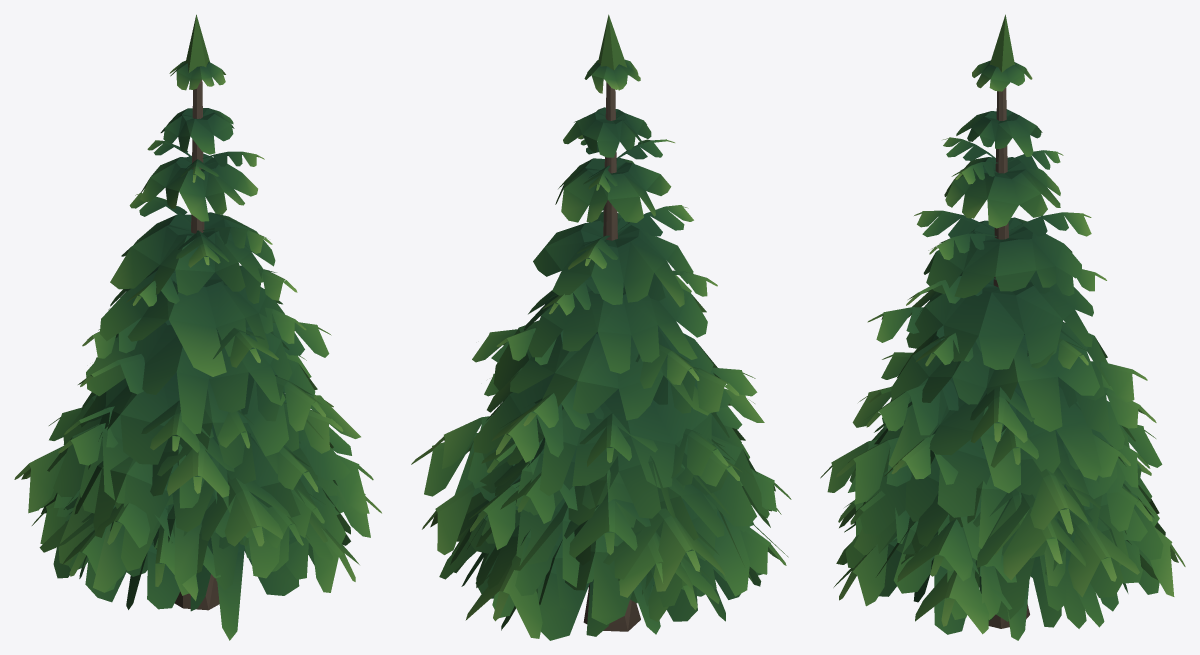
The model's file is spruce_M_normal_std_bottom_dense_s22.glb.
The picture shows the model from 3 angles, left to right: view 1: azimuth 30°, elevation 25°; view 2: azimuth 150°, elevation 25°; view 3: azimuth 270°, elevation 25°; orthographic projection. The views are drawn at different scales.
Visible parts, largest first — view 1: Tree; view 2: Tree; view 3: Tree.
Boxes of the visible parts, <box> form: Tree: <box>14,14,381,640</box>; Tree: <box>411,14,791,640</box>; Tree: <box>820,14,1185,640</box>.
Size of what is drawn, in the model's own units: 3.39 by 5.97 by 3.28.
